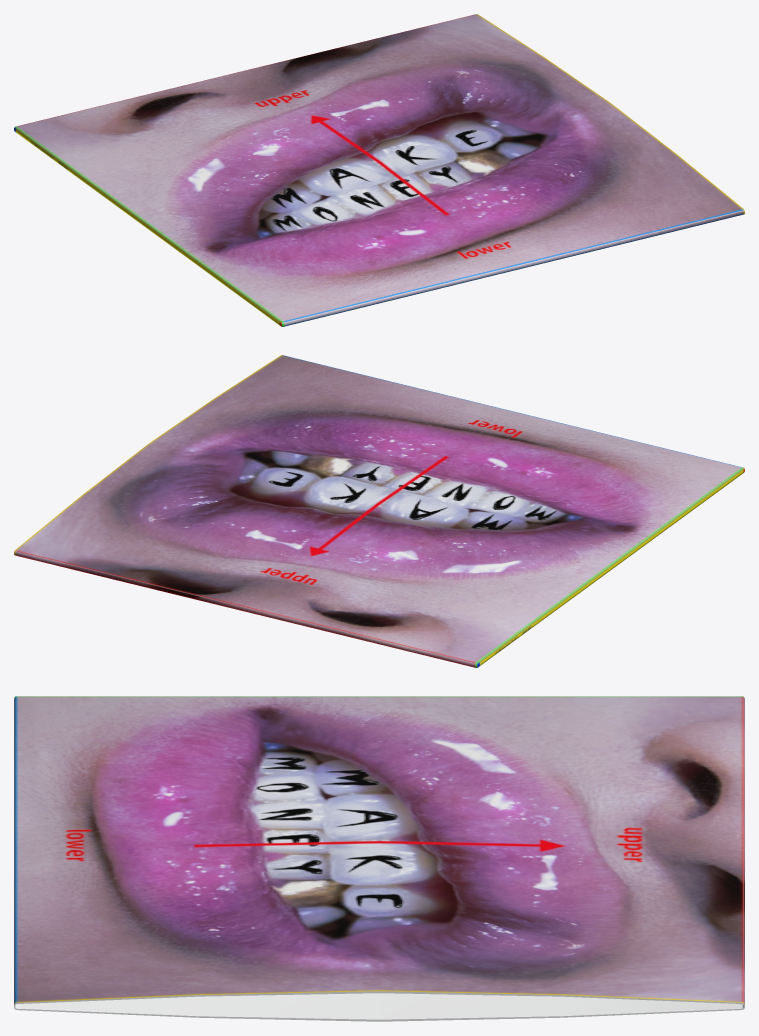
File: sleeve_12_single.dae
The picture shows the model from 3 angles, top to bottom: view 1: azimuth 30°, elevation 25°; view 2: azimuth 150°, elevation 25°; view 3: azimuth 270°, elevation 25°; orthographic projection. The views are drawn at different scales.
Parts seen in each view (by area): view 1: sleeve; view 2: sleeve; view 3: sleeve.
Boxes of the visible parts, box(x1,y1,x2,y2) form: sleeve: box(14, 14, 744, 326); sleeve: box(14, 355, 744, 667); sleeve: box(14, 696, 744, 1021).
Size of the model in its own units: 31.18 by 1.45 by 31.3.
1 material, 1 textured.
